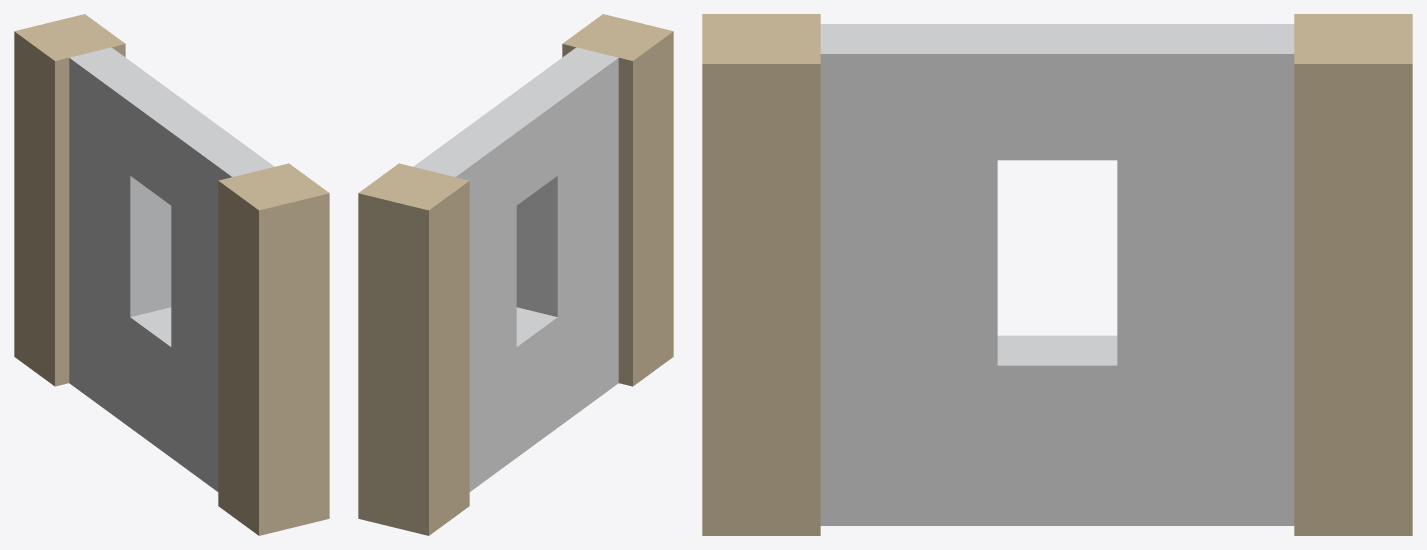
The model's file is Wood_Window_Square_01.glb.
3 views of the same model, side by side, from view 1: azimuth 30°, elevation 25°; view 2: azimuth 150°, elevation 25°; view 3: azimuth 270°, elevation 25° (orthographic). The views are drawn at different scales.
Parts seen in each view (by area): view 1: Mesh1 Wood_Window_Square Model; view 2: Mesh1 Wood_Window_Square Model; view 3: Mesh1 Wood_Window_Square Model.
Part boxes in pixels (bbox=[...]): Mesh1 Wood_Window_Square Model: bbox=[14, 14, 329, 535]; Mesh1 Wood_Window_Square Model: bbox=[358, 14, 673, 535]; Mesh1 Wood_Window_Square Model: bbox=[702, 14, 1412, 535].
Size of the model in its own units: 0.5 by 2.2 by 3.
